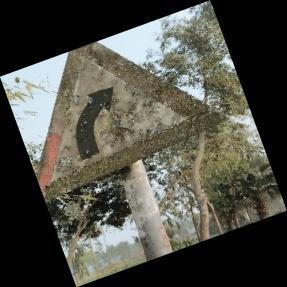Right-turn: (39, 25, 229, 195)
